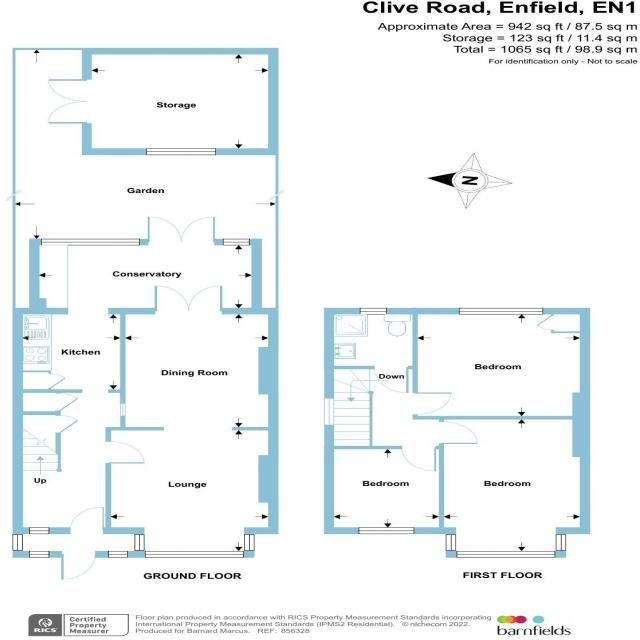DOOR: (373, 365, 410, 394), (104, 440, 146, 465), (400, 445, 438, 472), (438, 420, 479, 445), (69, 506, 105, 534), (411, 392, 453, 415)
DOUBLE DOOR: (145, 214, 217, 246), (151, 284, 225, 313)
ROOM: (12, 215, 262, 393), (438, 415, 591, 558), (412, 308, 590, 420), (324, 445, 444, 535)
WINDOW: (40, 238, 141, 246), (456, 550, 556, 558), (144, 551, 244, 558), (458, 308, 544, 315), (358, 527, 415, 534), (324, 398, 334, 425), (359, 307, 388, 315), (222, 238, 250, 246), (445, 534, 457, 551), (555, 534, 567, 551), (134, 534, 145, 551), (244, 534, 255, 551), (12, 534, 23, 551), (29, 551, 50, 558), (29, 527, 50, 534), (108, 551, 128, 558)
